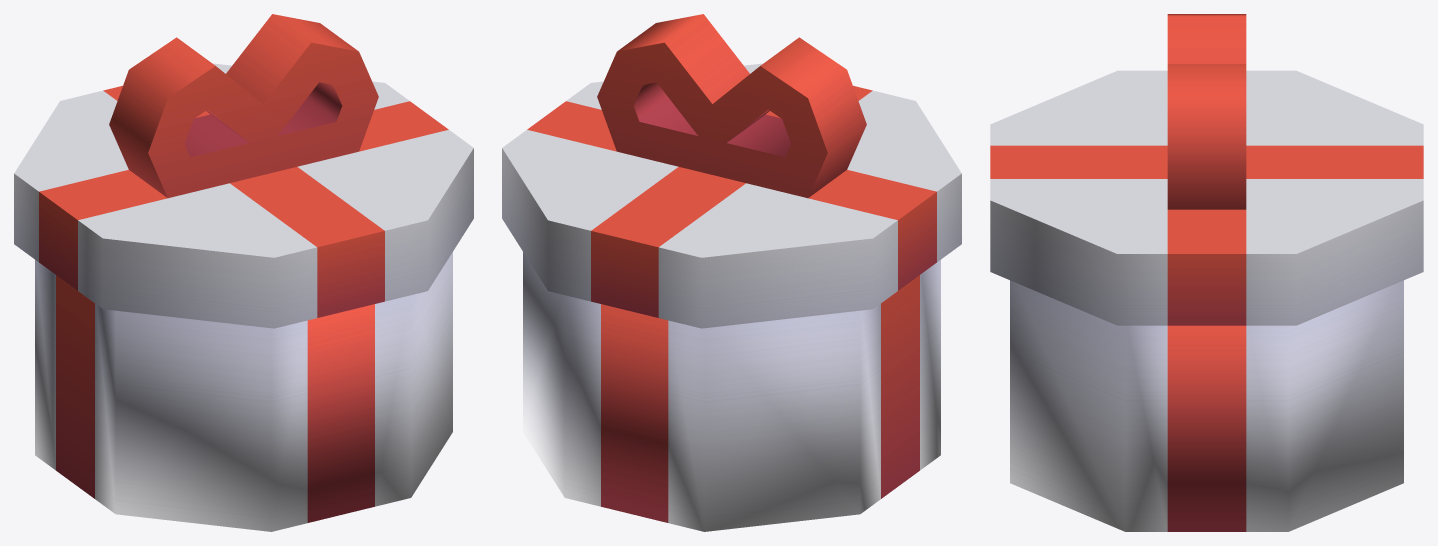
The model's file is present_white_round.glb.
3 views of the same model, side by side, from view 1: azimuth 30°, elevation 25°; view 2: azimuth 150°, elevation 25°; view 3: azimuth 270°, elevation 25° (orthographic).
Visible parts, largest first — view 1: present-a-round; view 2: present-a-round; view 3: present-a-round.
Boxes of the visible parts, x1=… form: present-a-round: x1=14, y1=14, x2=473, y2=531; present-a-round: x1=502, y1=14, x2=961, y2=531; present-a-round: x1=990, y1=14, x2=1423, y2=531.
Size of the model in its own units: 0.5489 by 0.5707 by 0.5489.
1 material, 1 textured.
